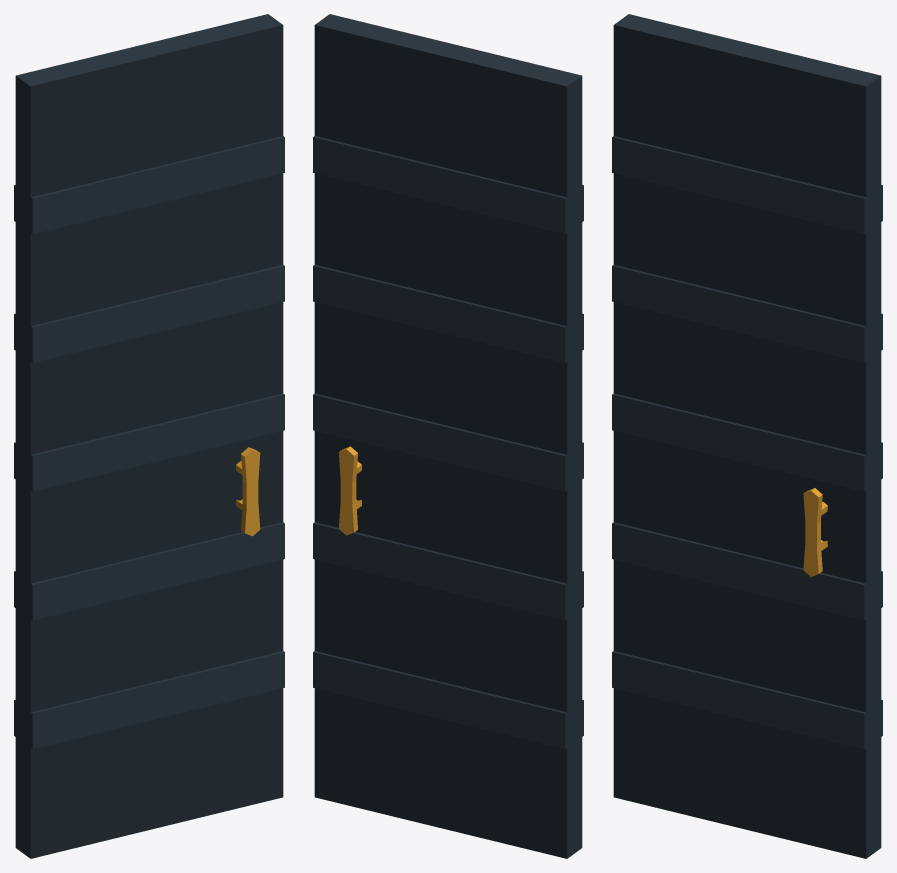
Rendered from SM_Buildings_Factory_02_Door_L.fbx.
3 renders of one model, left to right at view 1: azimuth 30°, elevation 25°; view 2: azimuth 150°, elevation 25°; view 3: azimuth 330°, elevation 25°, orthographic.
Parts seen in each view (by area): view 1: SM_Buildings_Factory_02_Door_L; view 2: SM_Buildings_Factory_02_Door_L; view 3: SM_Buildings_Factory_02_Door_L.
Boxes of the visible parts, left/top/right/bottom form: SM_Buildings_Factory_02_Door_L: left=14, top=14, right=284, bottom=858; SM_Buildings_Factory_02_Door_L: left=313, top=14, right=583, bottom=858; SM_Buildings_Factory_02_Door_L: left=612, top=14, right=882, bottom=858.
Bounding box in the file's own units: 0.7699 × 2.25 × 0.203.
